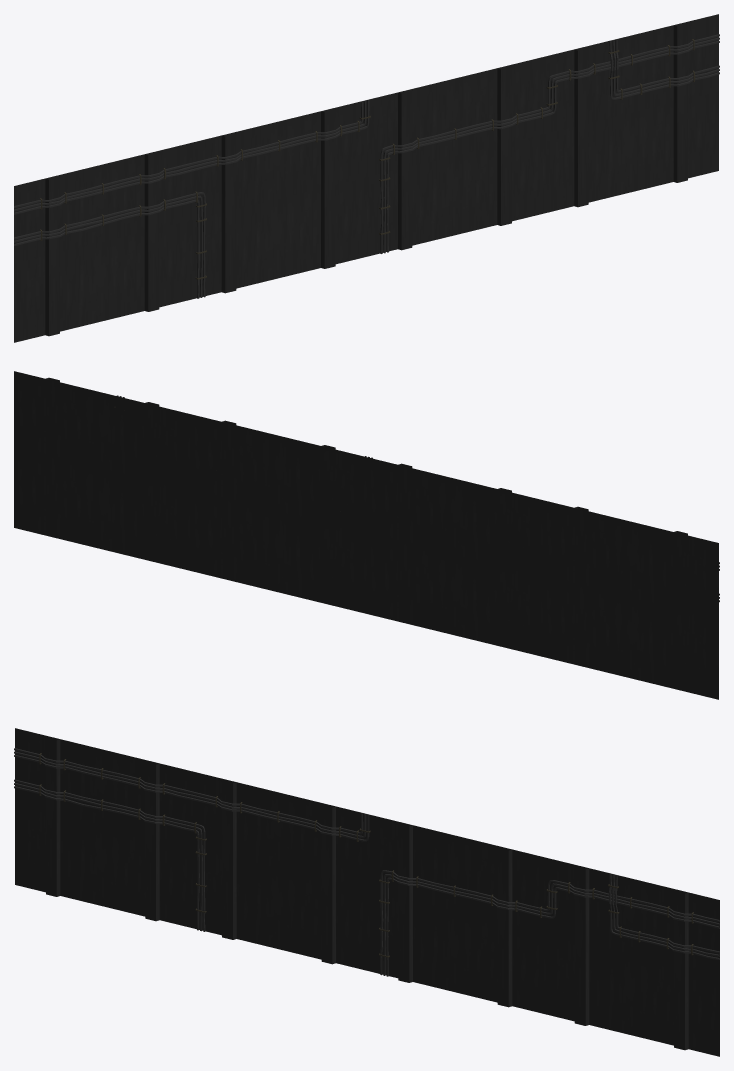
Rendered from SW_ENV_RailTunnelWall_B_01a_20m_FF.fbx.
3 views of the same model, one above another, from view 1: azimuth 30°, elevation 25°; view 2: azimuth 150°, elevation 25°; view 3: azimuth 330°, elevation 25° (orthographic).
Parts seen in each view (by area): view 1: SW_ENV_RailTunnelWall_B_01a_20m_FF; view 2: SW_ENV_RailTunnelWall_B_01a_20m_FF; view 3: SW_ENV_RailTunnelWall_B_01a_20m_FF.
Boxes of the visible parts, box(x1,y1,x2,y2) form: SW_ENV_RailTunnelWall_B_01a_20m_FF: box(14, 14, 719, 342); SW_ENV_RailTunnelWall_B_01a_20m_FF: box(14, 371, 719, 699); SW_ENV_RailTunnelWall_B_01a_20m_FF: box(14, 728, 719, 1056).
Bounding box in the file's own units: 2000 × 425 × 17.31.
